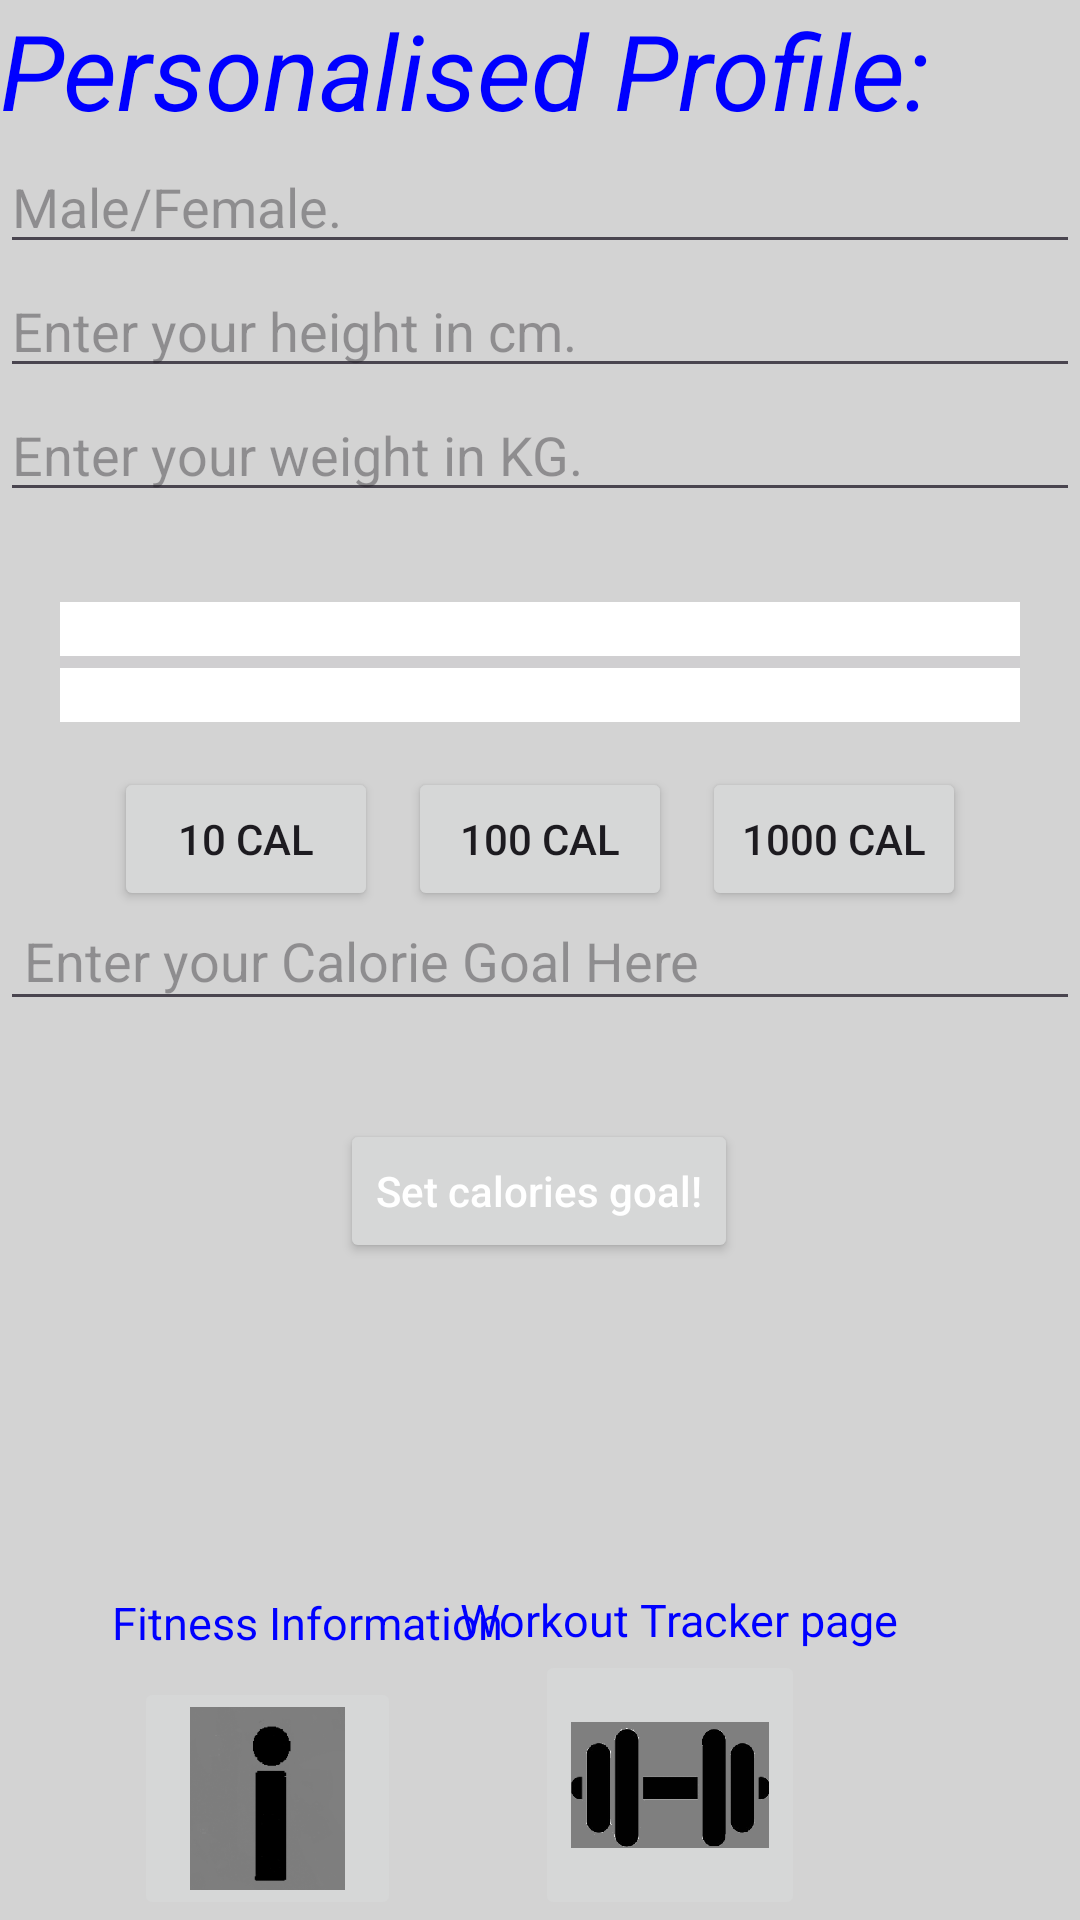

Icon bounding boxes for this 1080px×1920px phone screenshot, format bbox=(x1, y1, x2, y2):
exercise: bbox=(571, 1722, 769, 1848)
